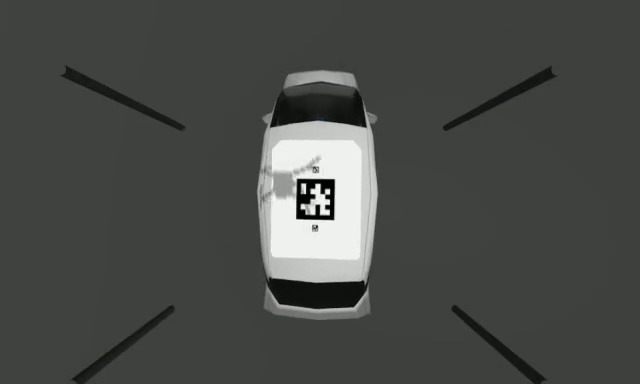Car: (257, 68, 378, 323)
Landing Pad: (269, 140, 363, 262)
